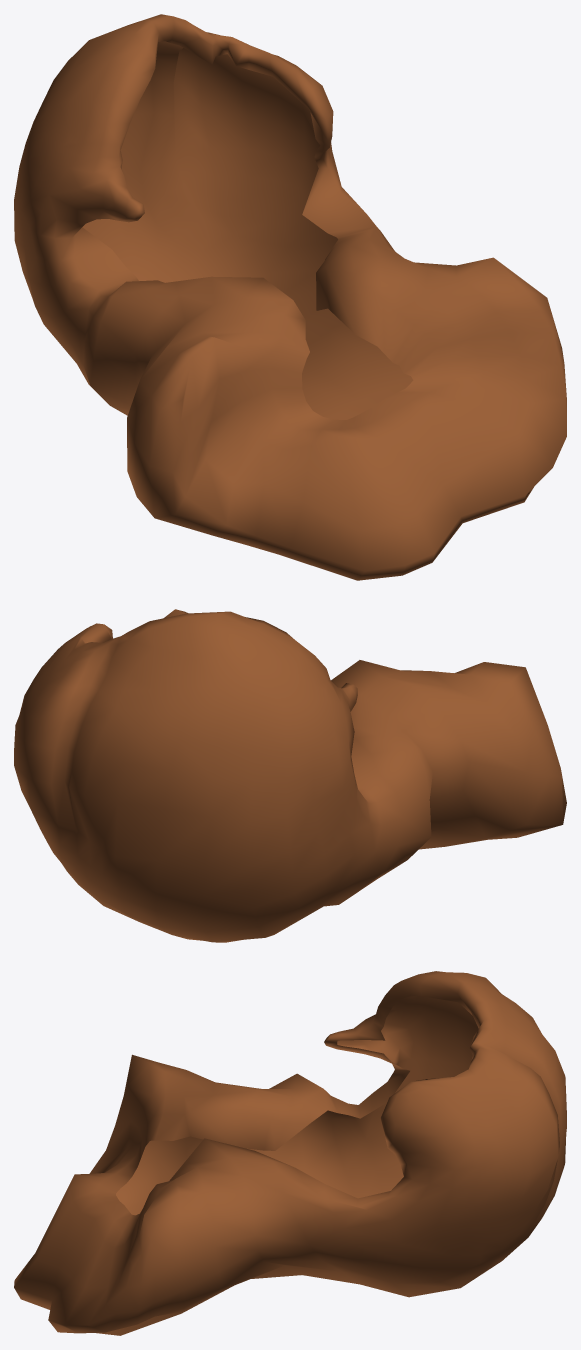
The model's file is Hair_Female_003.glb.
The picture shows the model from 3 angles, top to bottom: view 1: azimuth 30°, elevation 25°; view 2: azimuth 150°, elevation 25°; view 3: azimuth 270°, elevation 25°; orthographic projection. The views are drawn at different scales.
Visible parts, largest first — view 1: Hair_Female_003; view 2: Hair_Female_003; view 3: Hair_Female_003.
Part boxes in pixels (x1=…): Hair_Female_003: x1=14, y1=14, x2=566, y2=580; Hair_Female_003: x1=14, y1=609, x2=566, y2=942; Hair_Female_003: x1=14, y1=971, x2=566, y2=1335.
Bounding box in the file's own units: 4.09 × 3.59 × 5.51.
